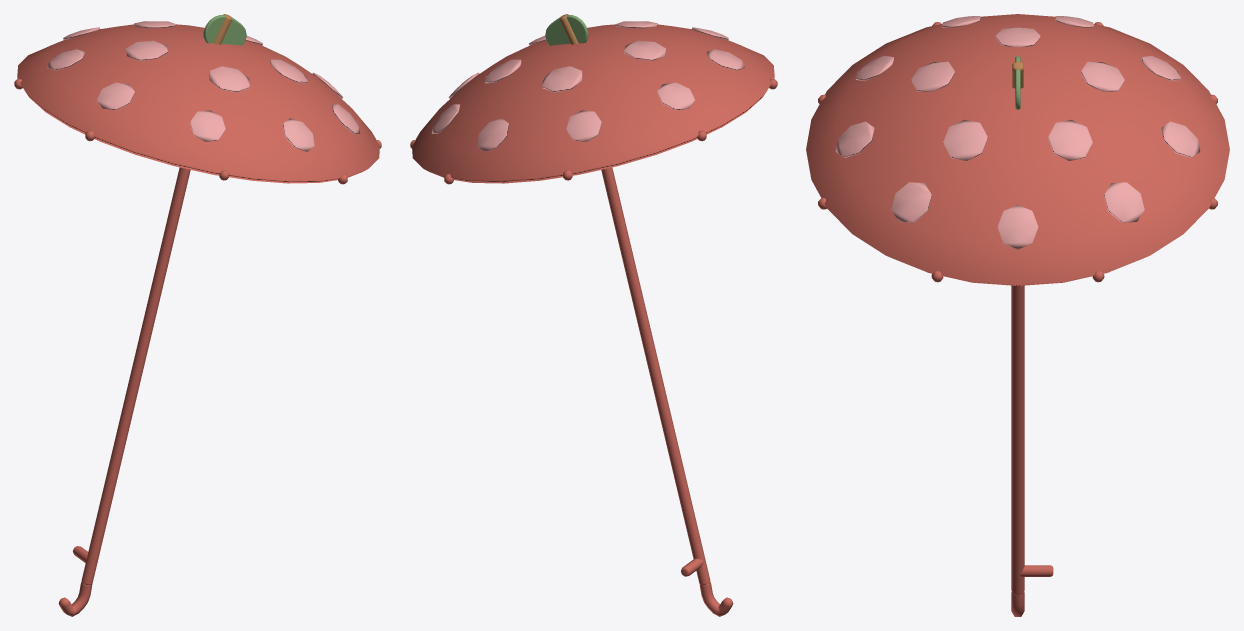
File: cherry_umbrella.glb
3 views of the same model, side by side, from view 1: azimuth 30°, elevation 25°; view 2: azimuth 150°, elevation 25°; view 3: azimuth 270°, elevation 25° (orthographic). The views are drawn at different scales.
Parts seen in each view (by area): view 1: cherry_umbrella_ArmR; view 2: cherry_umbrella_ArmR; view 3: cherry_umbrella_ArmR.
Boxes of the visible parts, x1=… form: cherry_umbrella_ArmR: x1=14, y1=14, x2=381, y2=616; cherry_umbrella_ArmR: x1=410, y1=14, x2=777, y2=616; cherry_umbrella_ArmR: x1=806, y1=14, x2=1229, y2=616.
Bounding box in the file's own units: 0.8703 × 1.5 × 0.9.
